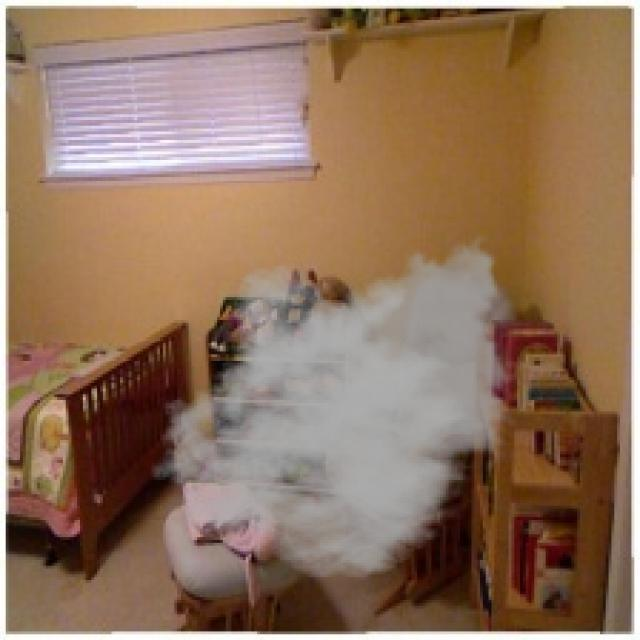Smoke: (148, 228, 520, 580)
